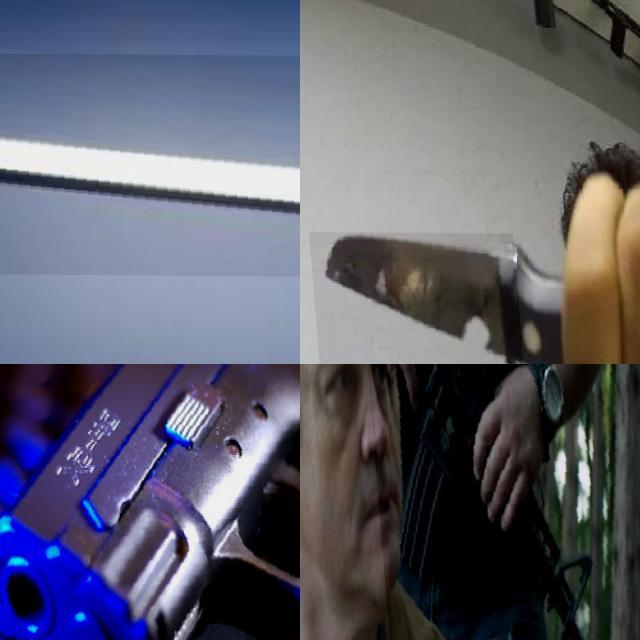-: (0, 53, 300, 277), (302, 231, 515, 364)
gun-knife-thesis - v11 Yolov5 augmented: (0, 364, 300, 640), (353, 364, 640, 640)
